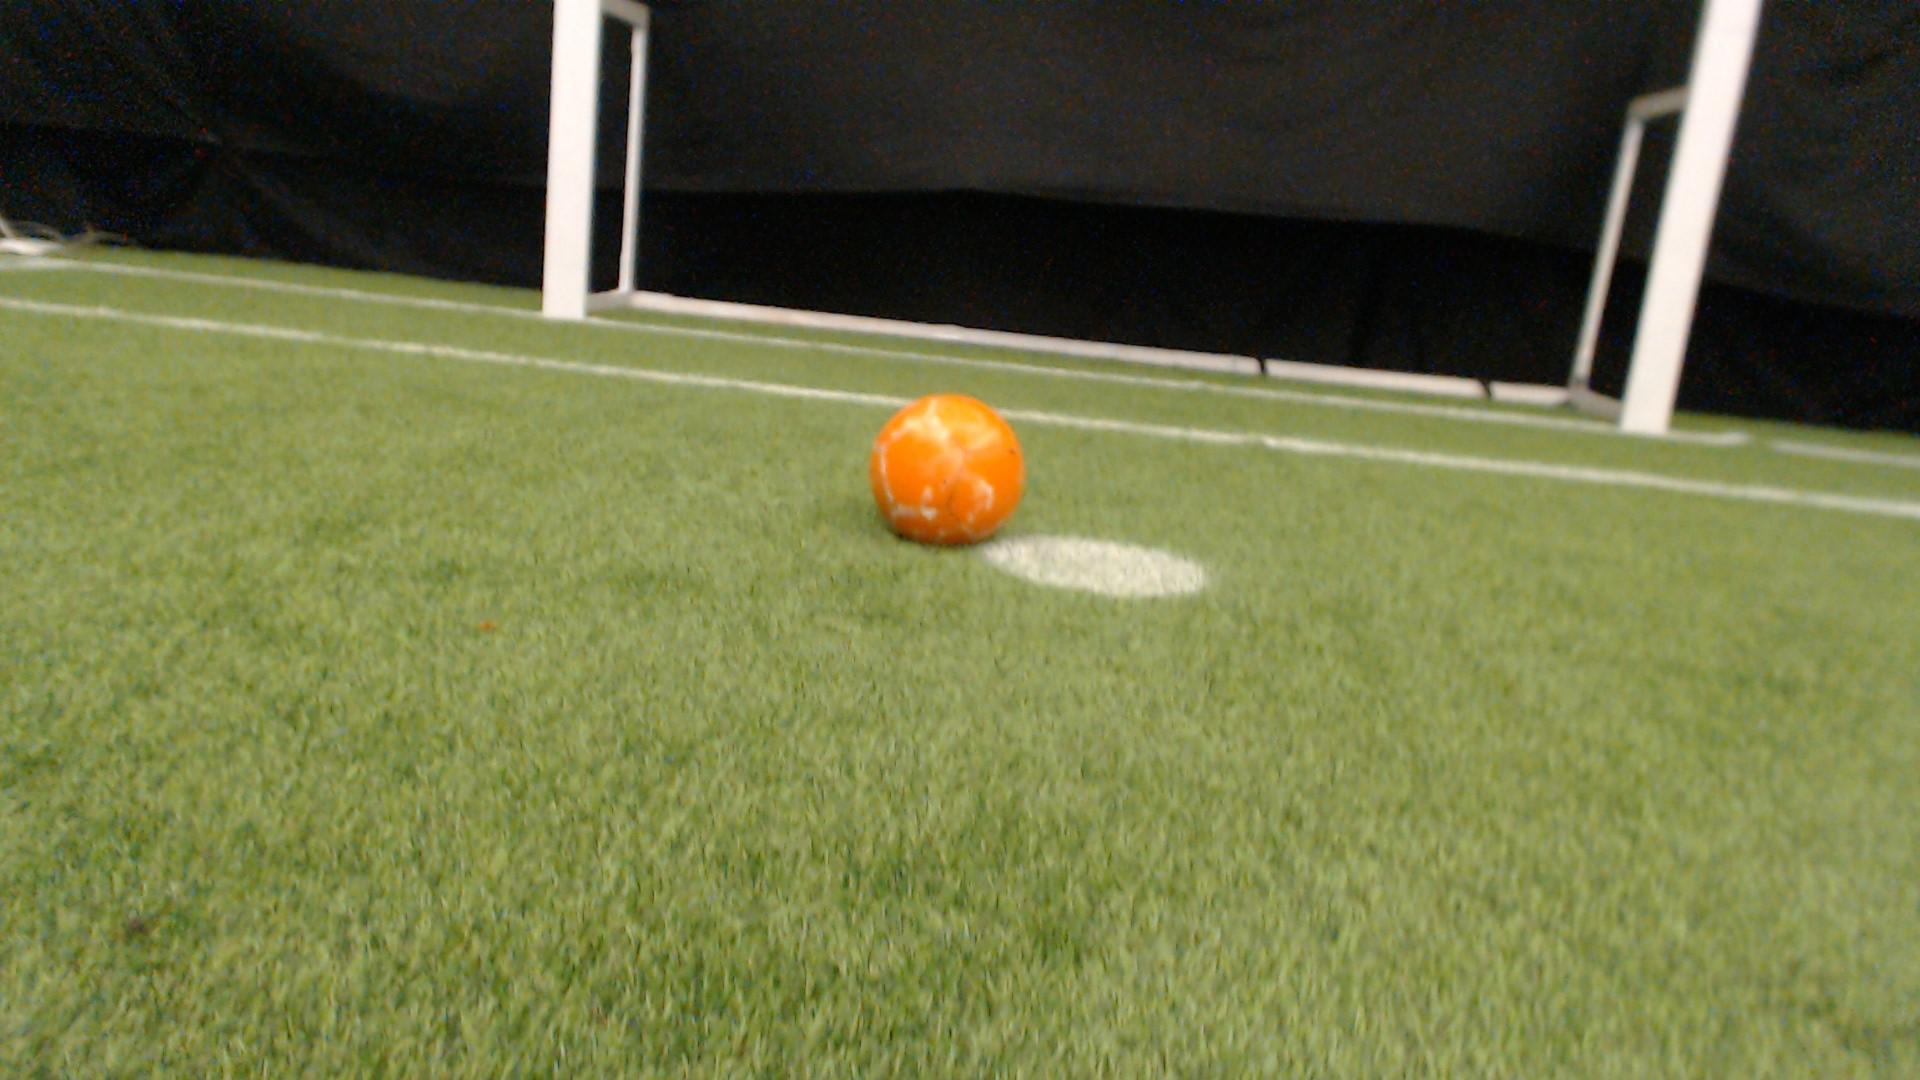bola: (841, 376, 1060, 567)
